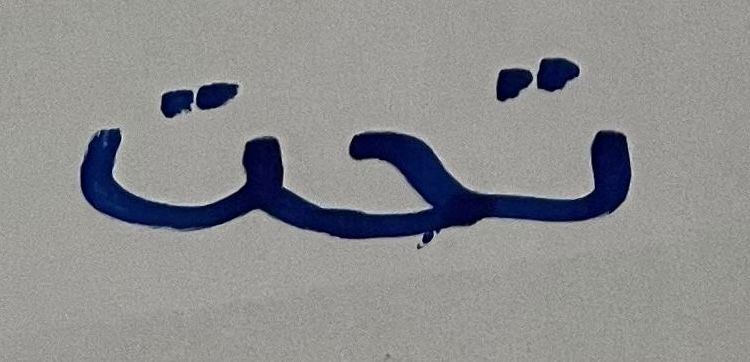hah: (293, 84, 477, 304)
teh: (54, 34, 291, 257), (480, 43, 654, 263)
